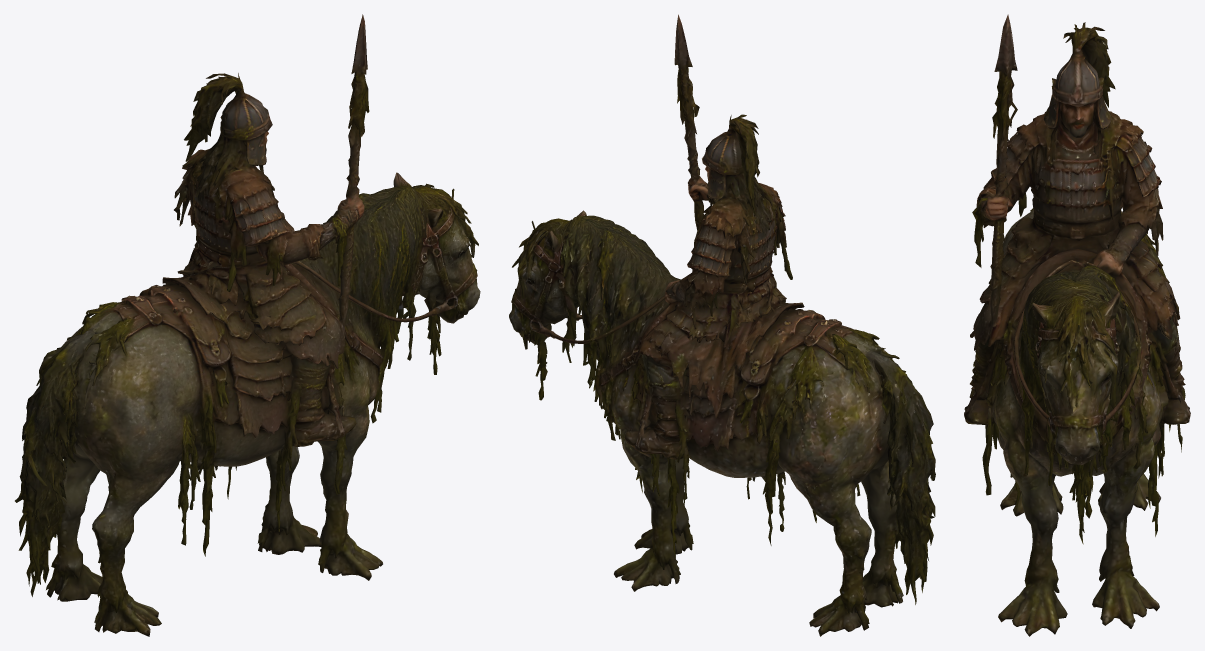
Rendered from BogRider-tripo.glb.
3 renders of one model, left to right at view 1: azimuth 30°, elevation 25°; view 2: azimuth 150°, elevation 25°; view 3: azimuth 270°, elevation 25°, orthographic. The views are drawn at different scales.
Visible parts, largest first — view 1: tripo_node_22acfd0a-c617-45d2-bcb9-54c58ed4467d; view 2: tripo_node_22acfd0a-c617-45d2-bcb9-54c58ed4467d; view 3: tripo_node_22acfd0a-c617-45d2-bcb9-54c58ed4467d.
Part boxes in pixels (bbox=[...]): tripo_node_22acfd0a-c617-45d2-bcb9-54c58ed4467d: bbox=[15, 14, 480, 636]; tripo_node_22acfd0a-c617-45d2-bcb9-54c58ed4467d: bbox=[509, 14, 935, 636]; tripo_node_22acfd0a-c617-45d2-bcb9-54c58ed4467d: bbox=[964, 14, 1190, 636].
Bounding box in the file's own units: 0.8394 × 1 × 0.337.
Materials: 1 (1 with a texture image).
